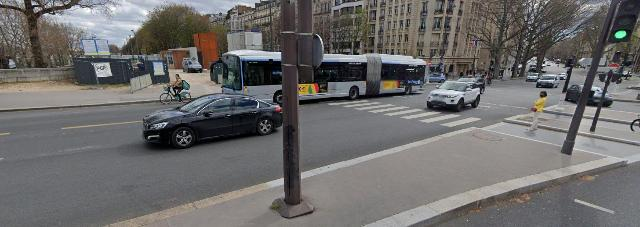bus: (209, 50, 428, 107)
